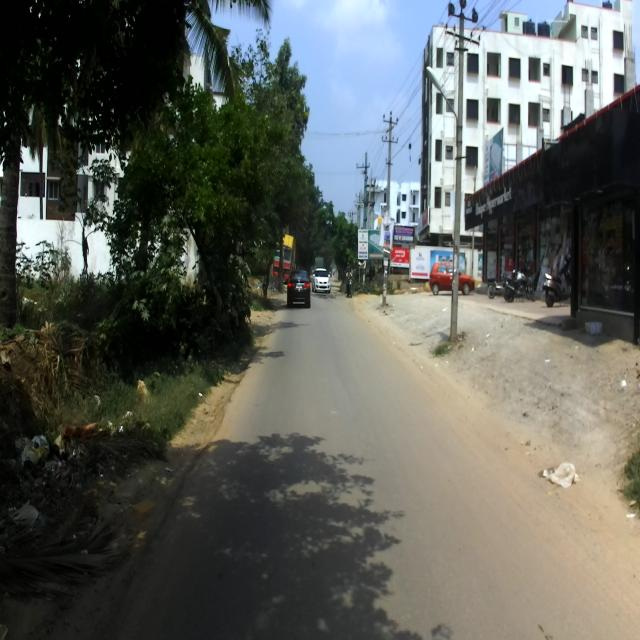electric pole ahead at: (438, 0, 489, 353)
